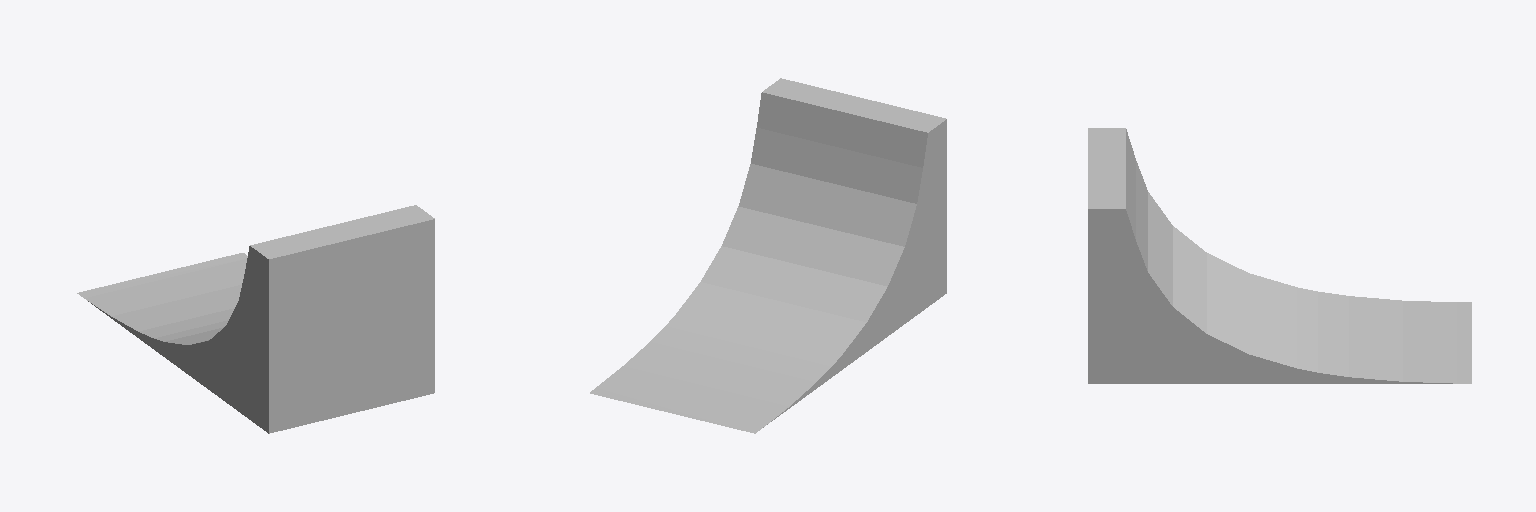
The model's file is Quater_LRG_Straight_Half.obj.
3 views of the same model, side by side, from view 1: azimuth 30°, elevation 25°; view 2: azimuth 150°, elevation 25°; view 3: azimuth 270°, elevation 25° (orthographic).
Visible parts, largest first — view 1: Quater_LRG_Straight_Half; view 2: Quater_LRG_Straight_Half; view 3: Quater_LRG_Straight_Half.
Part boxes in pixels (x1,y1,x2,y2): Quater_LRG_Straight_Half: (77,205,434,433); Quater_LRG_Straight_Half: (590,78,946,433); Quater_LRG_Straight_Half: (1088,128,1471,383).
Bounding box in the file's own units: 10 × 10 × 20.